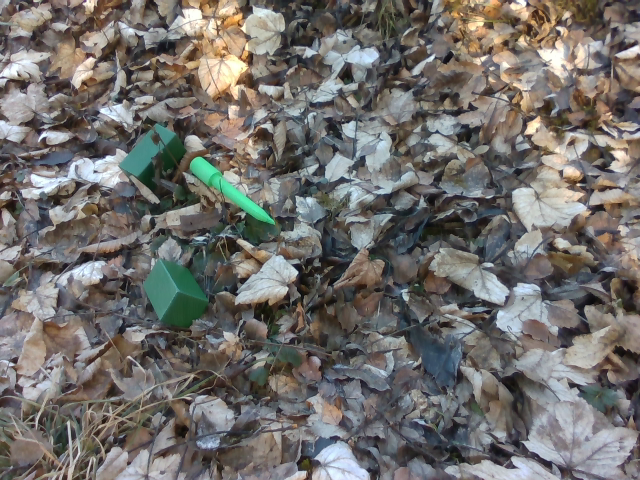Probe: (184, 155, 276, 228)
